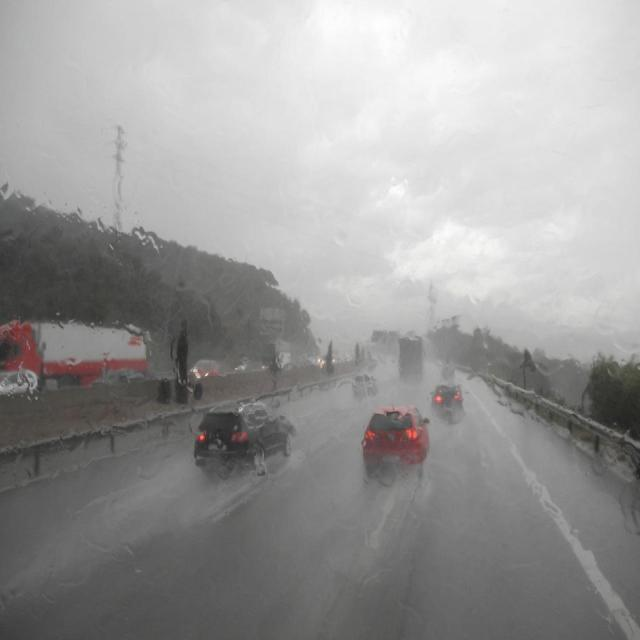Car: (185, 397, 308, 476), (355, 398, 431, 482), (0, 360, 44, 414), (427, 371, 466, 423), (349, 357, 379, 399), (189, 349, 217, 386)
Truck: (0, 312, 154, 384), (395, 320, 426, 399)
